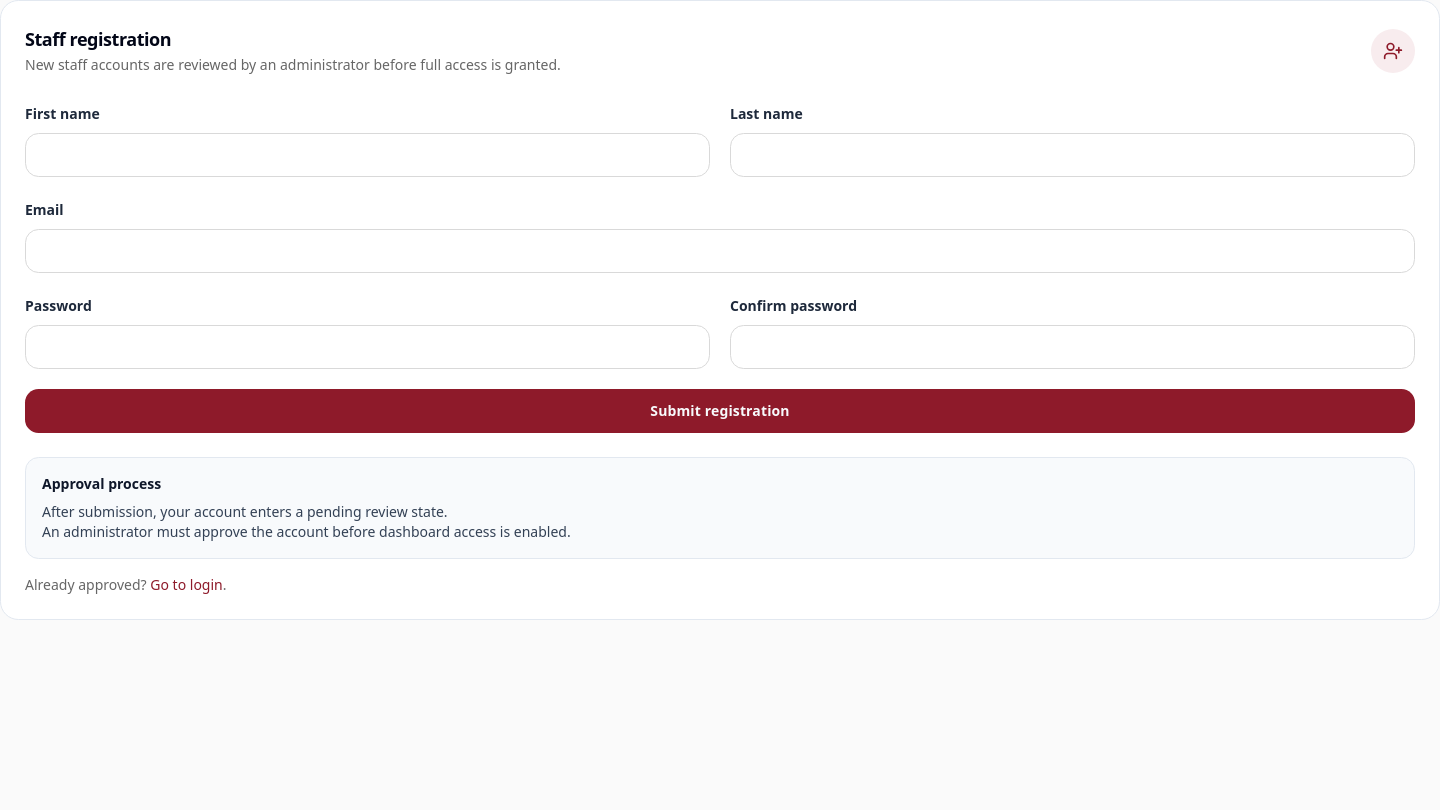
Test: RegisterForm › shows a duplicate-email error returned by the registration endpoint
Step 1. Type "Elena" into the field labelled "First name" → (368, 155), box [25,133,710,177]
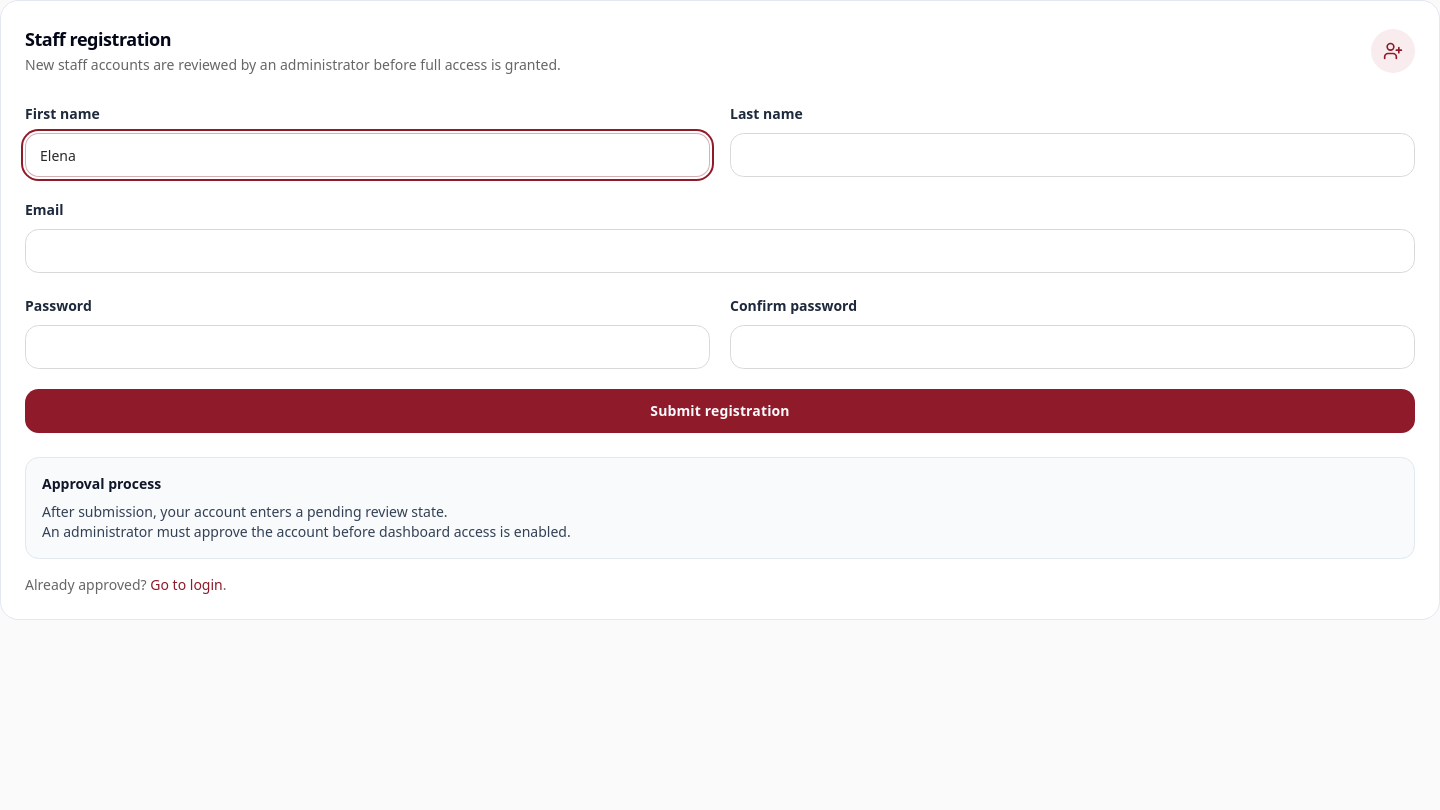
Step 2. Type "Petrova" into the field labelled "Last name" → (1072, 155), box [730,133,1415,177]
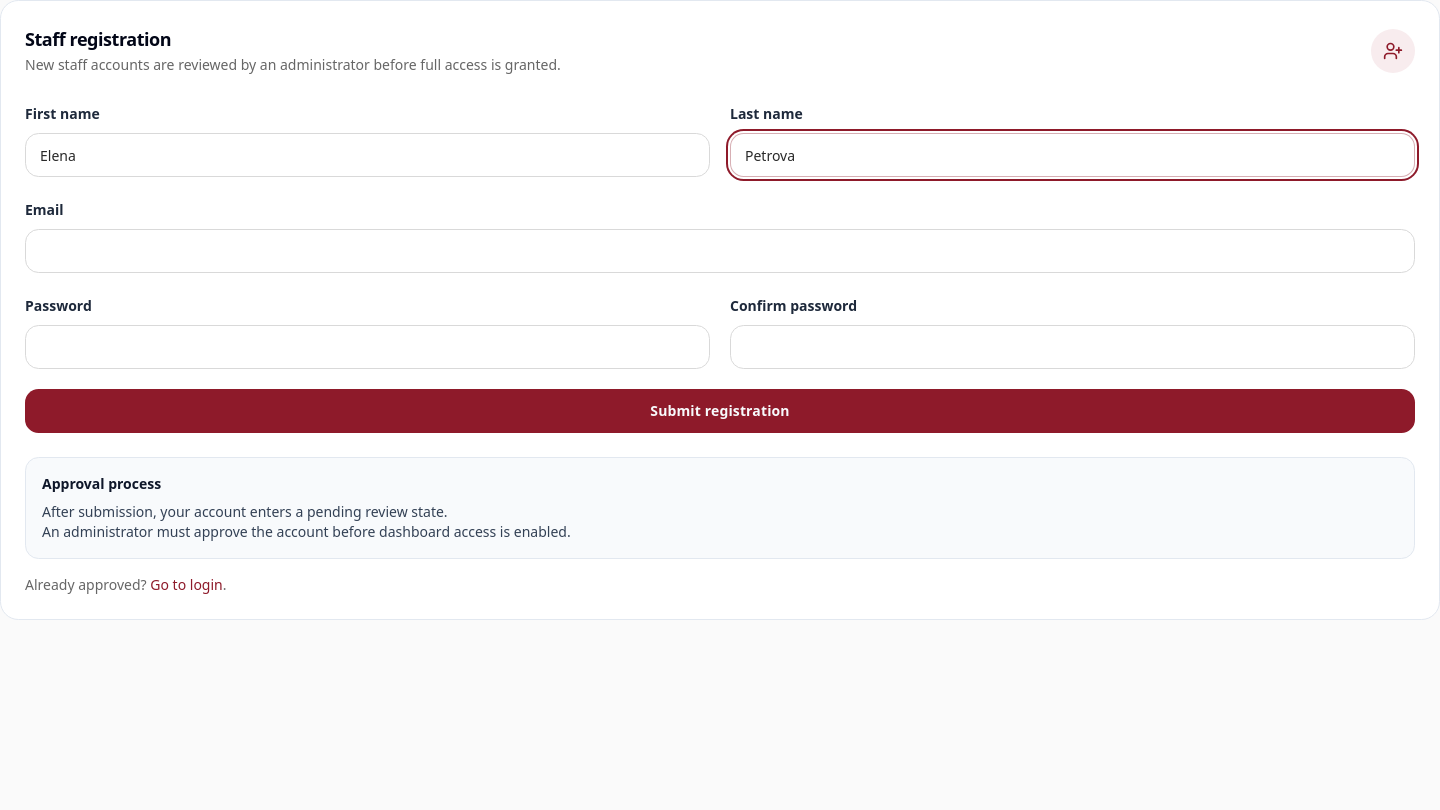
Step 3. Type "new.staff@swu.local" into the field labelled "Email" → (720, 251), box [25,229,1415,273]
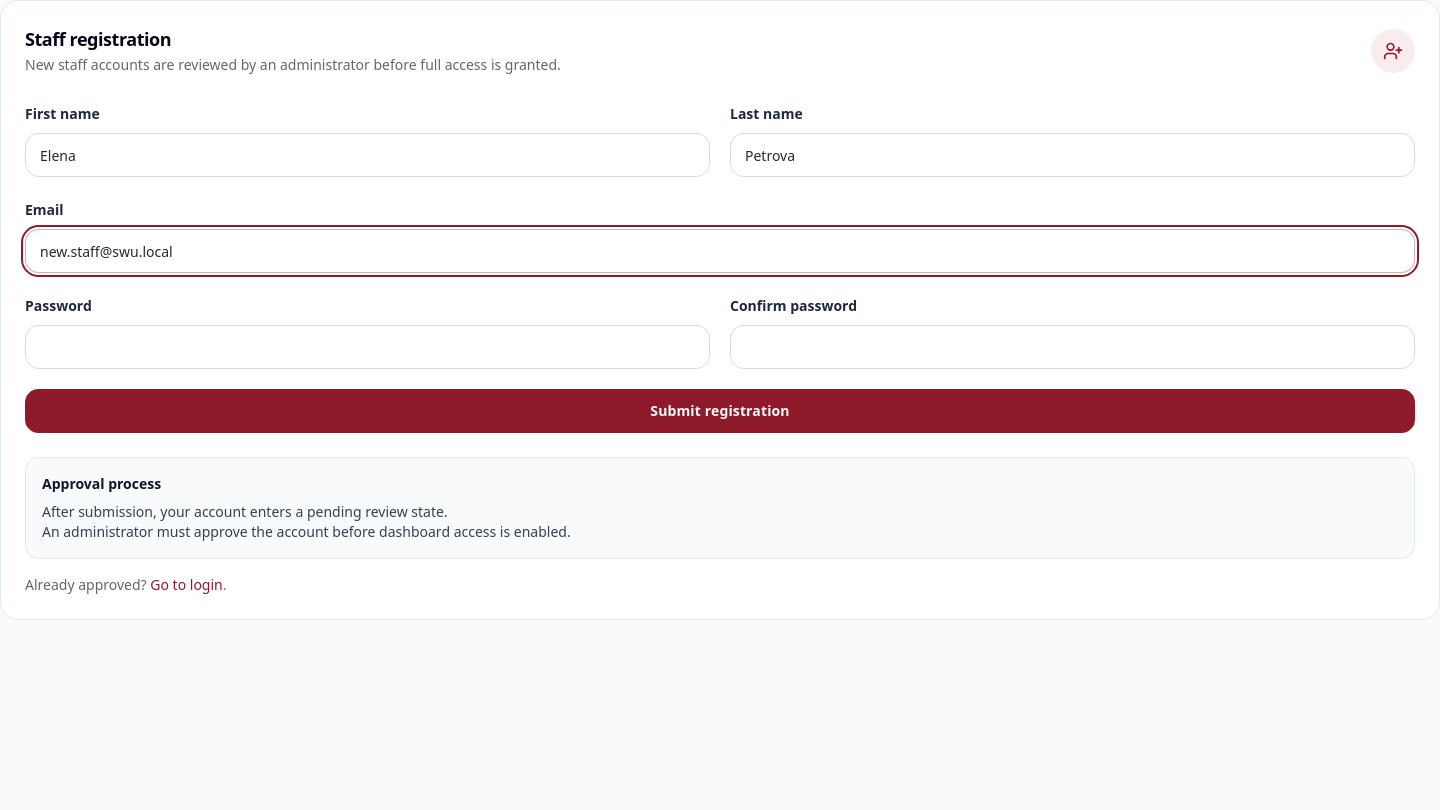
Step 4. Type "NewStaffPass123!" into the password field labelled "Password" → (368, 347), box [25,325,710,369]
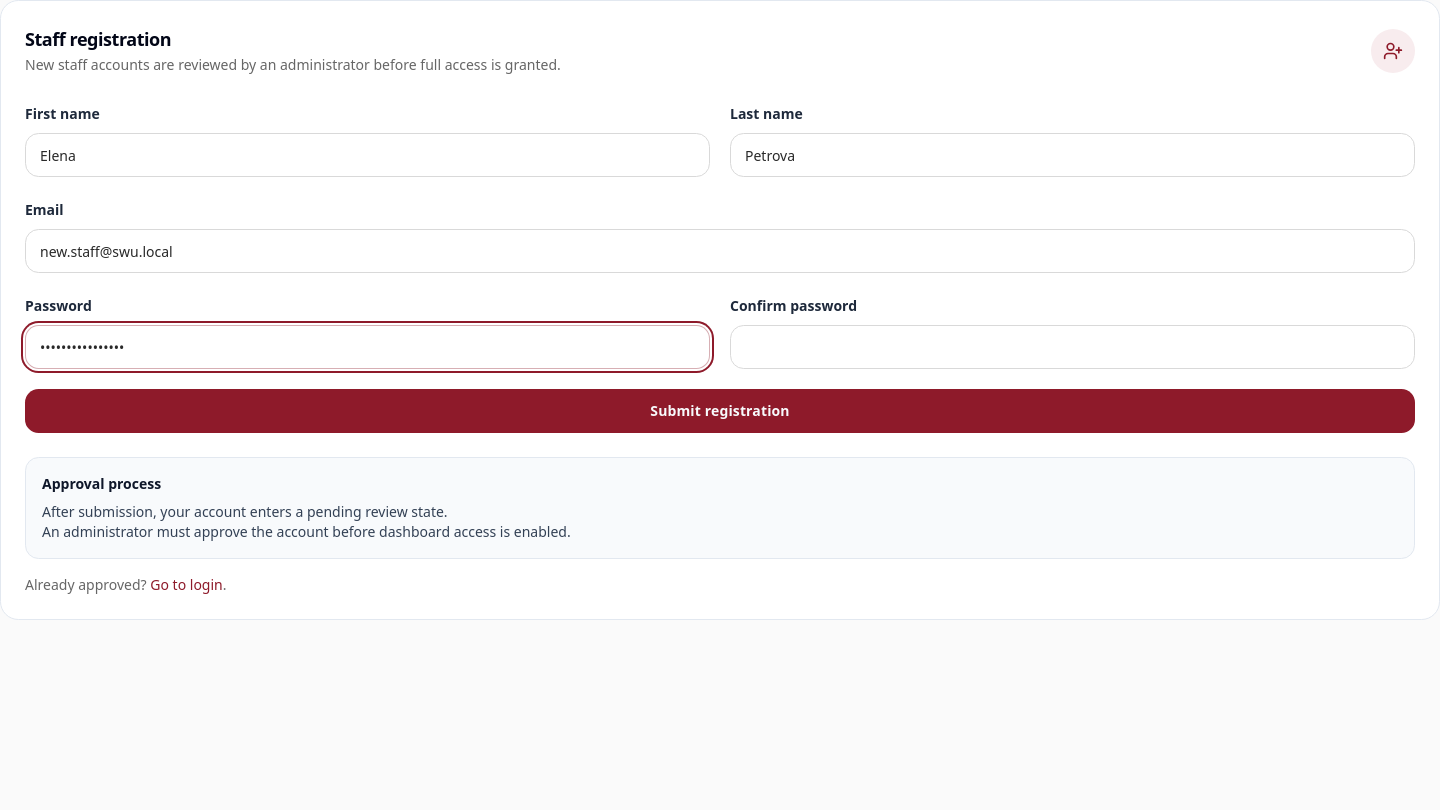
Step 5. Type "NewStaffPass123!" into the password field labelled "Confirm password" → (1072, 347), box [730,325,1415,369]
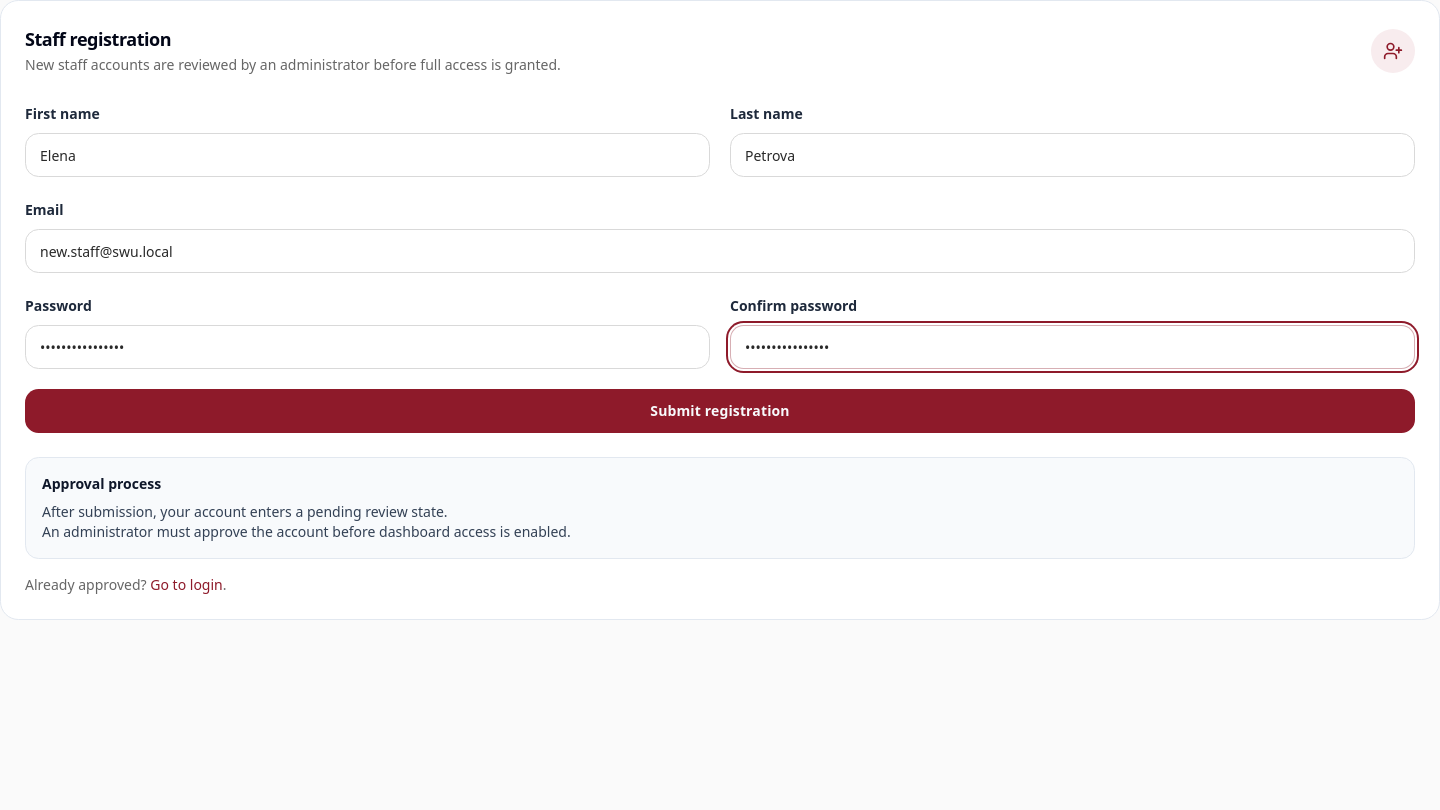
Step 6. Click the button "Submit registration" → click(720, 411), box [25,389,1415,433]
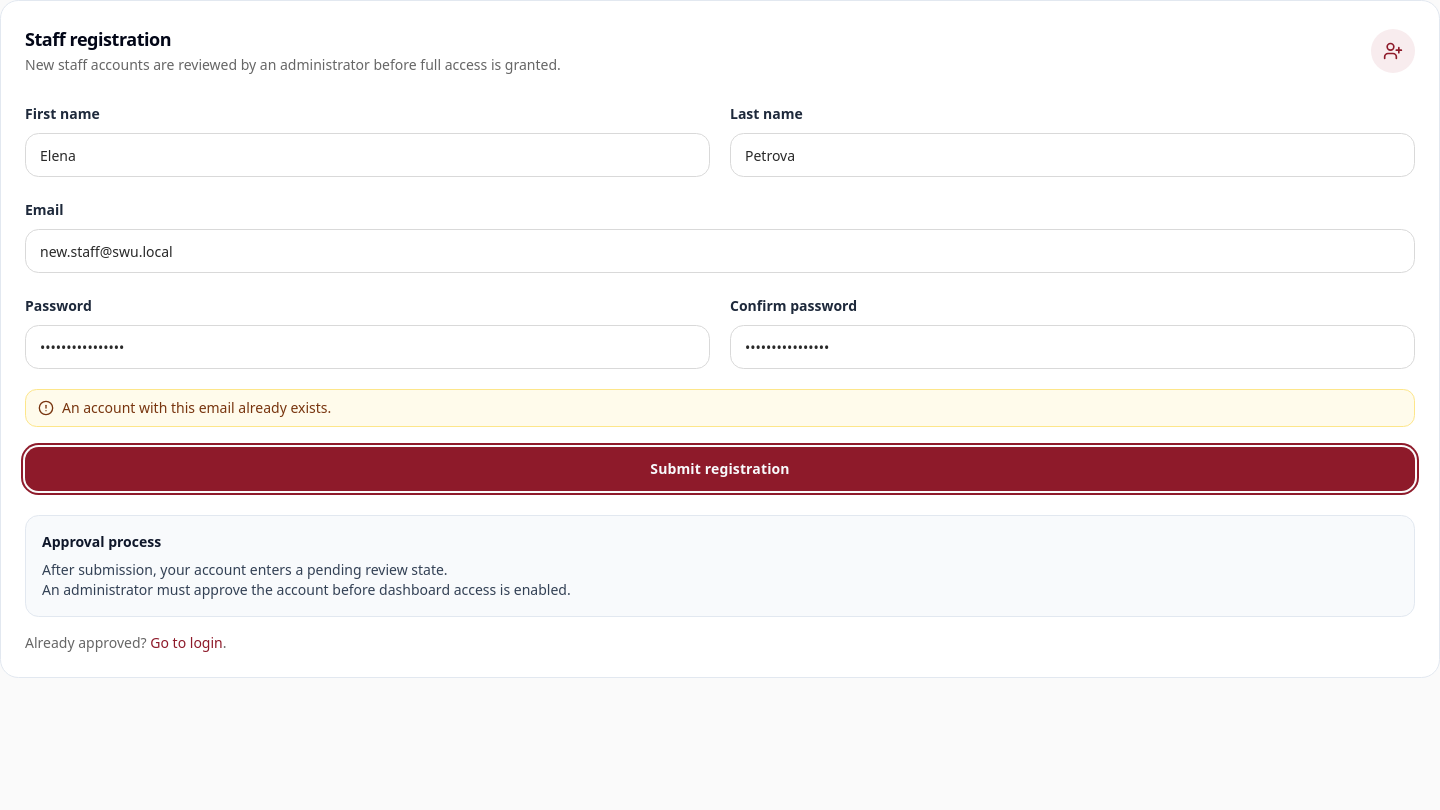
Now the text "An account with this email already exists." is shown, box [62,398,331,418]
